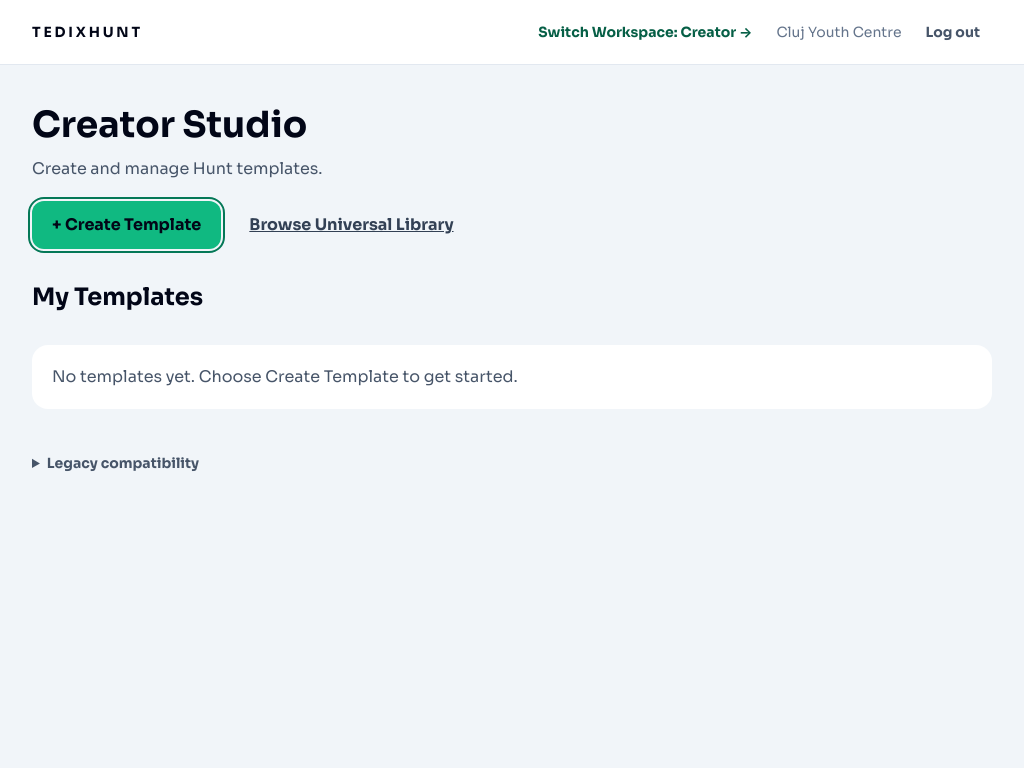
Scenario: Local approved origin opens the existing Library only on selection
Click the button "+ Create Template" at (127, 225), box x1=32 y1=201 x2=221 y2=249
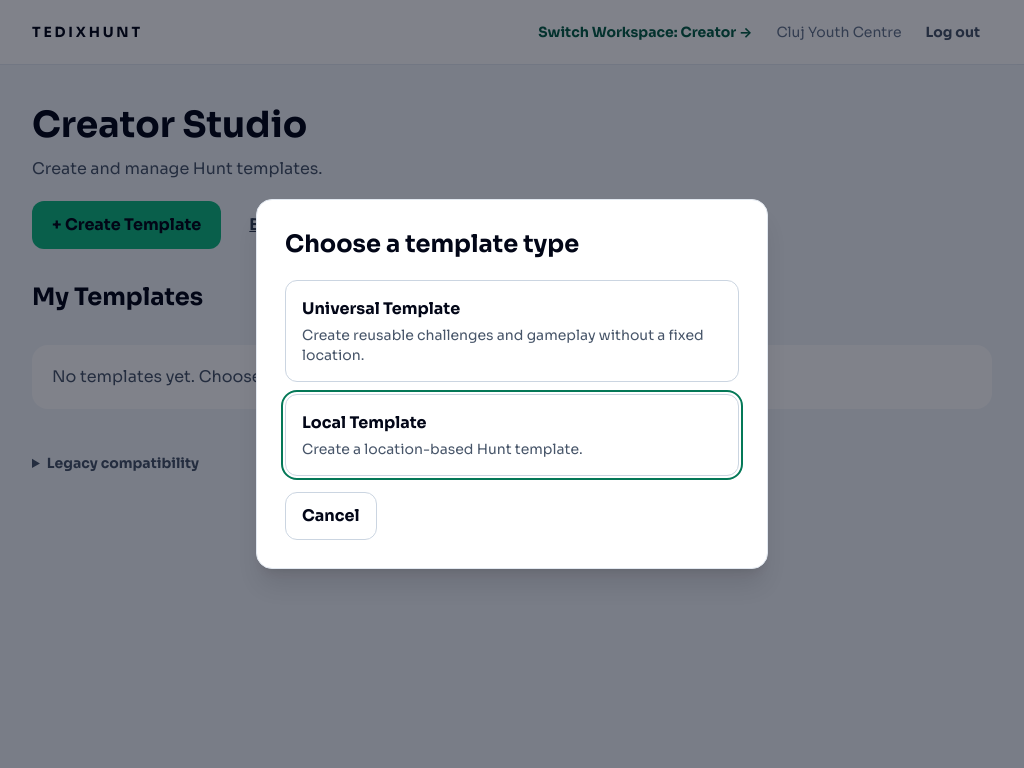
Click the button "Local Template Create a location-based Hunt template." at (364, 422), box x1=285 y1=394 x2=739 y2=476
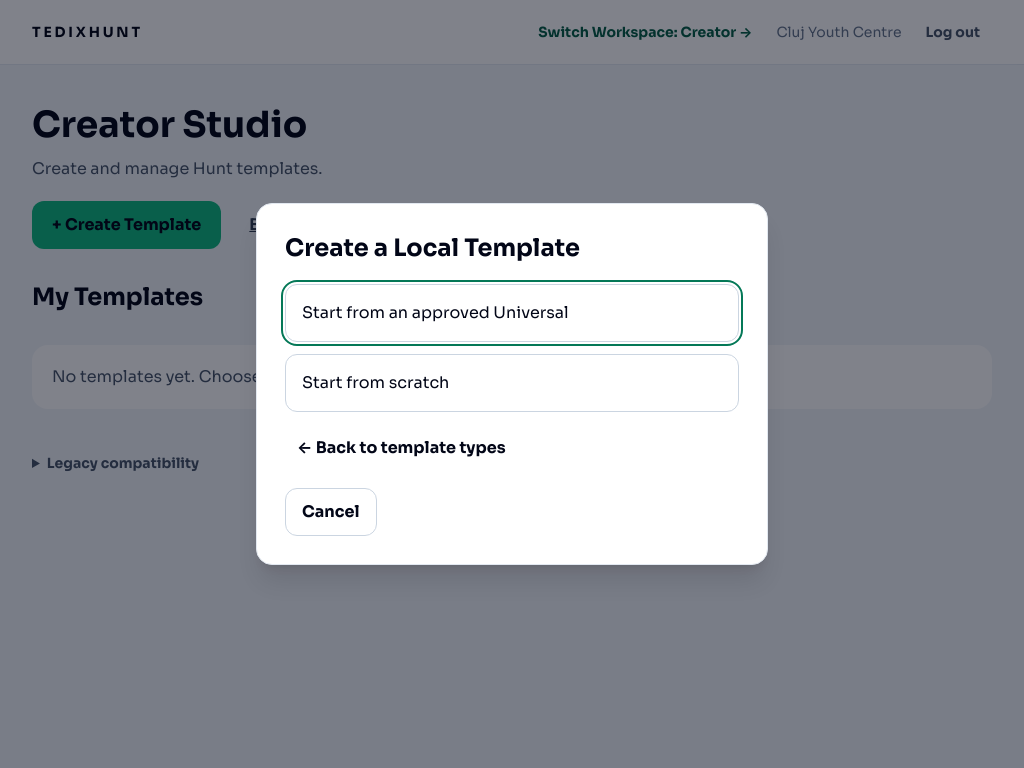
Click the button "Start from an approved Universal" at (512, 313), box x1=285 y1=284 x2=739 y2=342
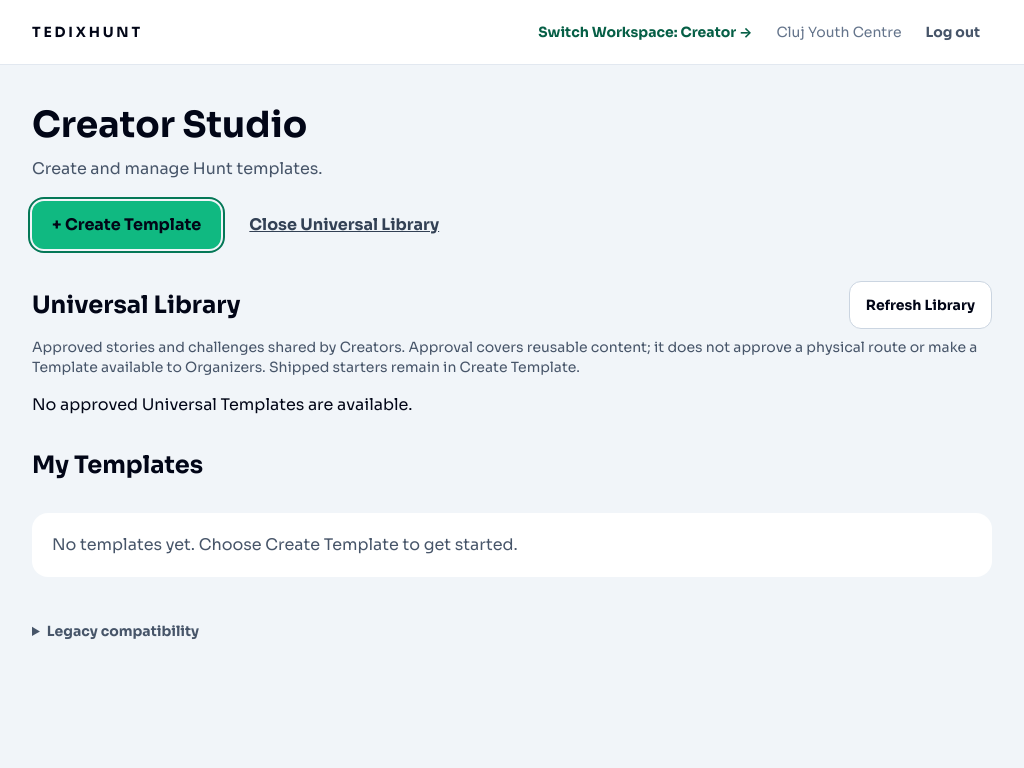
Expected: the dialog is gone
